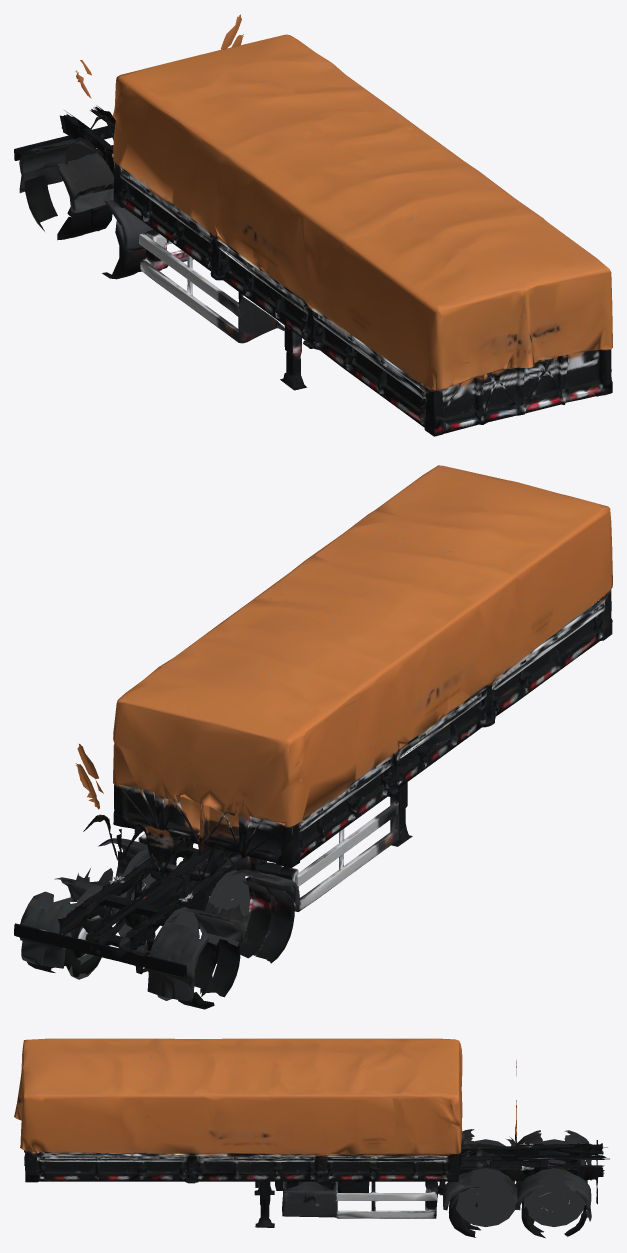
The model's file is bitrem_1.glb.
3 views of the same model, one above another, from view 1: azimuth 30°, elevation 25°; view 2: azimuth 150°, elevation 25°; view 3: azimuth 270°, elevation 25° (orthographic). The views are drawn at different scales.
Visible parts, largest first — view 1: carroceria; view 2: carroceria, chassi; view 3: carroceria, chassi.
Part boxes in pixels (bbox=[...]): carroceria: bbox=[14, 14, 612, 436]; carroceria: bbox=[14, 465, 612, 1009]; chassi: bbox=[65, 848, 250, 1000]; carroceria: bbox=[14, 1038, 609, 1238]; chassi: bbox=[456, 1139, 585, 1226].
Bounding box in the file's own units: 2.75 × 3.15 × 11.24.
Materials: 2 (1 with a texture image).
